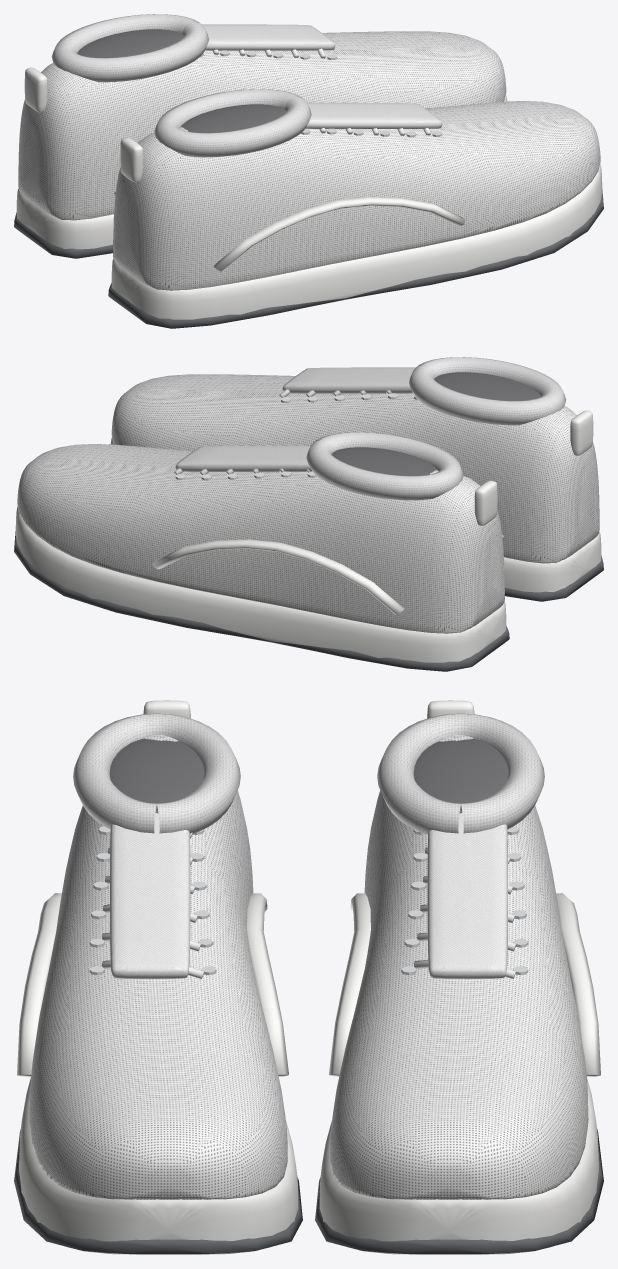
File: sneakers.glb
3 views of the same model, one above another, from view 1: azimuth 30°, elevation 25°; view 2: azimuth 150°, elevation 25°; view 3: azimuth 270°, elevation 25° (orthographic). The views are drawn at different scales.
Visible parts, largest first — view 1: sneaker0_upper, sneaker1_upper, sneaker0_sole, sneaker0_collar, sneaker1_collar, sneaker0_tread, sneaker0_tongue, sneaker1_tongue, sneaker1_sole, sneaker0_stripe-1, sneaker1_opening, sneaker0_opening (+3 smaller); view 2: sneaker1_upper, sneaker0_upper, sneaker1_sole, sneaker1_collar, sneaker0_collar, sneaker1_tread, sneaker1_tongue, sneaker0_tongue, sneaker0_sole, sneaker1_stripe1, sneaker0_opening, sneaker1_opening (+3 smaller); view 3: sneaker1_upper, sneaker0_upper, sneaker0_sole, sneaker1_sole, sneaker1_tongue, sneaker0_tongue, sneaker1_collar, sneaker0_collar, sneaker0_opening, sneaker1_opening, sneaker0_tread, sneaker1_tread (+4 smaller).
Part boxes in pixels (bbox=[...]): sneaker0_upper: bbox=[113, 101, 600, 290]; sneaker1_upper: bbox=[18, 31, 506, 220]; sneaker0_sole: bbox=[111, 163, 602, 319]; sneaker0_collar: bbox=[154, 89, 311, 157]; sneaker1_collar: bbox=[51, 14, 208, 82]; sneaker0_tread: bbox=[108, 190, 603, 328]; sneaker0_tongue: bbox=[305, 102, 442, 129]; sneaker1_tongue: bbox=[202, 24, 335, 50]; sneaker1_sole: bbox=[16, 94, 507, 249]; sneaker0_stripe-1: bbox=[213, 196, 465, 271]; sneaker1_opening: bbox=[77, 29, 183, 57]; sneaker0_opening: bbox=[180, 104, 286, 132]; sneaker1_upper: bbox=[17, 444, 504, 633]; sneaker0_upper: bbox=[111, 374, 599, 563]; sneaker1_sole: bbox=[15, 506, 506, 662]; sneaker1_collar: bbox=[306, 432, 463, 500]; sneaker0_collar: bbox=[409, 357, 566, 425]; sneaker1_tread: bbox=[14, 531, 509, 671]; sneaker1_tongue: bbox=[175, 445, 312, 472]; sneaker0_tongue: bbox=[282, 367, 415, 393]; sneaker0_sole: bbox=[110, 437, 601, 592]; sneaker1_stripe1: bbox=[152, 539, 404, 614]; sneaker0_opening: bbox=[434, 372, 540, 400]; sneaker1_opening: bbox=[331, 447, 437, 475]; sneaker1_upper: bbox=[330, 735, 588, 1199]; sneaker0_upper: bbox=[29, 735, 287, 1199]; sneaker0_sole: bbox=[19, 1078, 298, 1254]; sneaker1_sole: bbox=[319, 1078, 598, 1254]; sneaker1_tongue: bbox=[427, 813, 507, 979]; sneaker0_tongue: bbox=[110, 813, 190, 979]; sneaker1_collar: bbox=[377, 713, 544, 834]; sneaker0_collar: bbox=[73, 713, 240, 833]; sneaker0_opening: bbox=[109, 738, 204, 813]; sneaker1_opening: bbox=[413, 738, 508, 813]; sneaker0_tread: bbox=[14, 1129, 302, 1254]; sneaker1_tread: bbox=[315, 1129, 603, 1254].
Bounding box in the file's own units: 31.14 × 11.5 × 23.19.
Materials: 7 (2 with a texture image).
